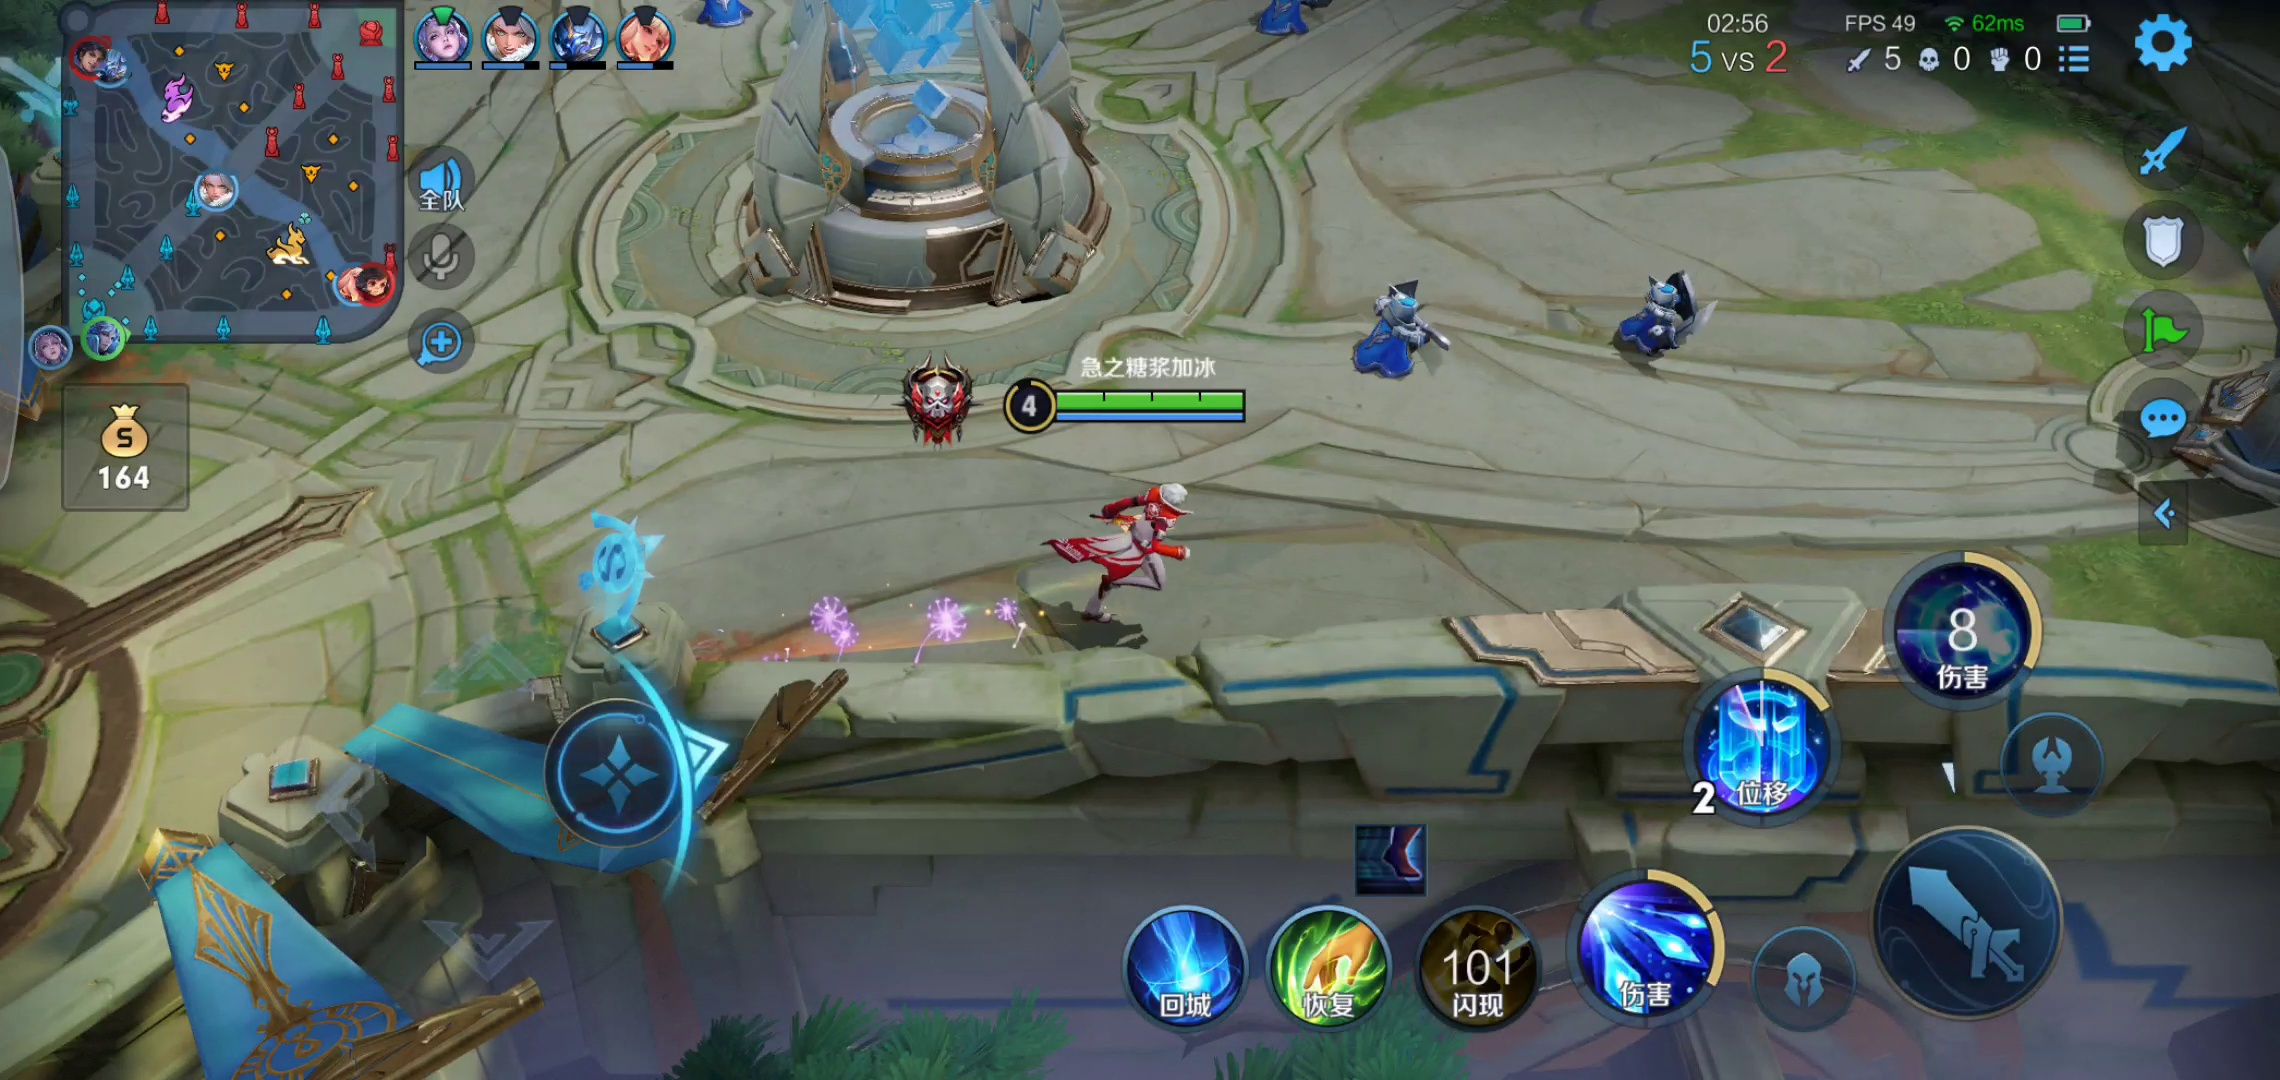crystal: (758, 1, 1111, 307)
hero: (1050, 470, 1216, 626)
soldier: (1319, 256, 1466, 394), (1602, 259, 1727, 365), (1248, 1, 1349, 47), (691, 1, 755, 31)
tower: (2210, 193, 2280, 483)
